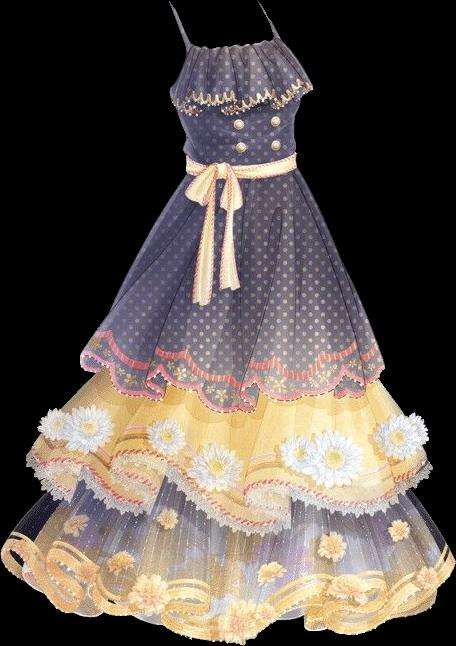Bodice: (169, 0, 312, 182)
Hemline: (2, 545, 455, 645), (23, 459, 433, 529), (79, 353, 390, 415)
Neckline: (168, 0, 278, 52), (183, 149, 296, 169)
Skirt: (1, 169, 455, 644)
Waistline: (173, 82, 313, 116), (183, 164, 299, 187)
